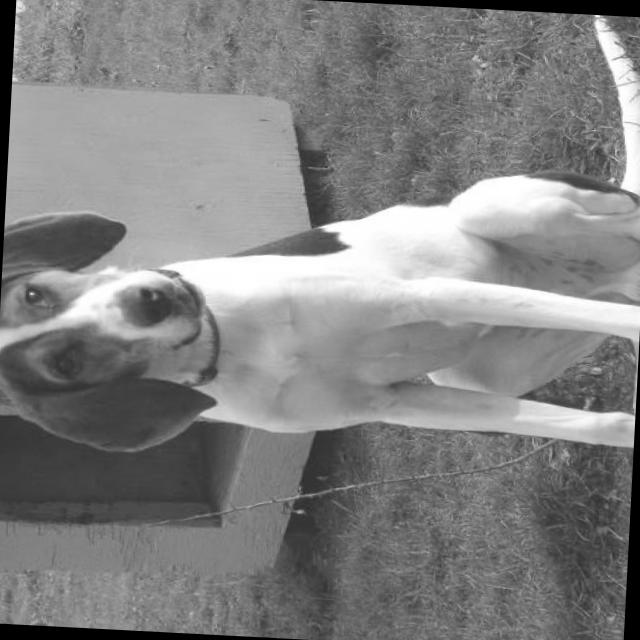sitting: (0, 0, 640, 484)
